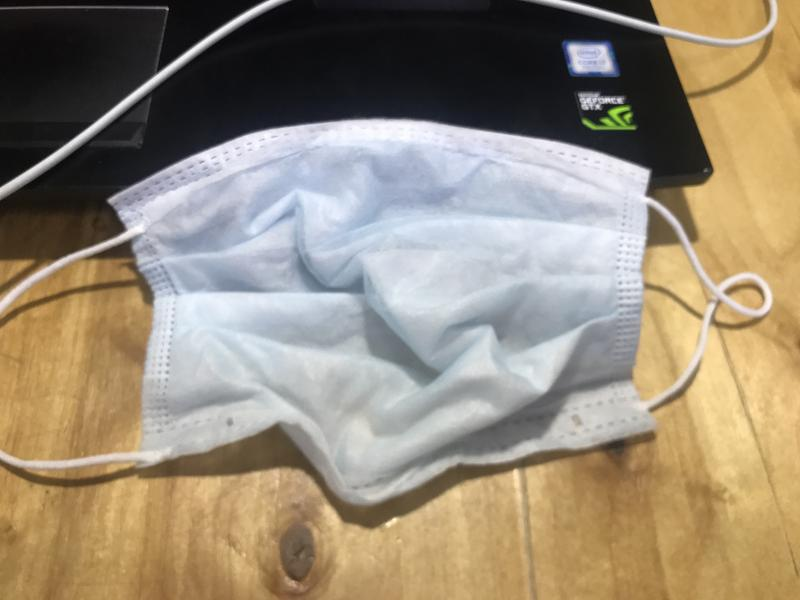medical_mask: (1, 116, 771, 501)
